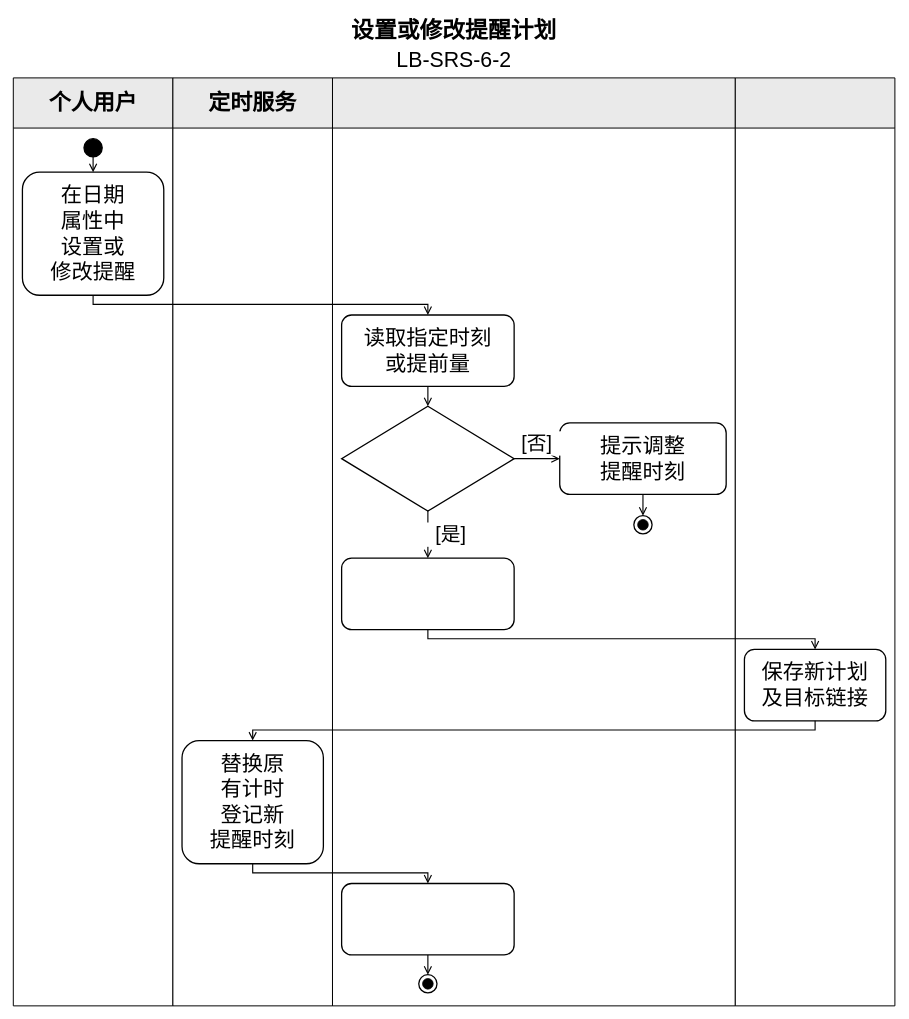
Image size: 909x1019. Some labels were removed from this diagram. Here are the shapes that lost their labels. From the top down, the box of each, then its label:
(341, 405, 514, 511): 提醒时刻 在未来？
(332, 77, 735, 1006): 核心服务
(734, 77, 895, 1006): 存储服务
(341, 557, 514, 630): 生成新计划身份 使原计划失效
(341, 883, 514, 955): 显示提醒 设置结果
